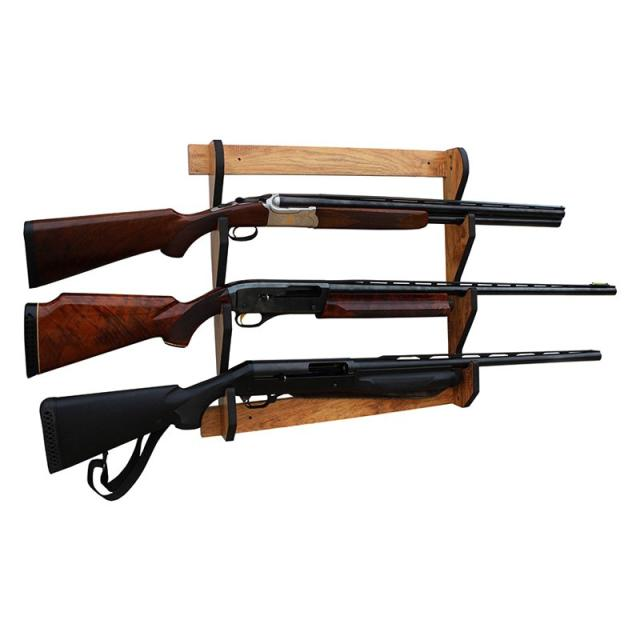ShotGun: (40, 351, 600, 474), (23, 280, 617, 377), (24, 194, 565, 287)
